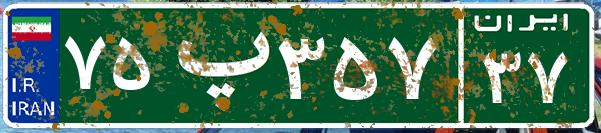3: (273, 28, 330, 110), (475, 38, 525, 113)
5: (330, 28, 385, 110), (110, 28, 158, 105)
7: (385, 28, 445, 110), (57, 26, 110, 107), (525, 38, 570, 115)
پ: (158, 15, 273, 115)
